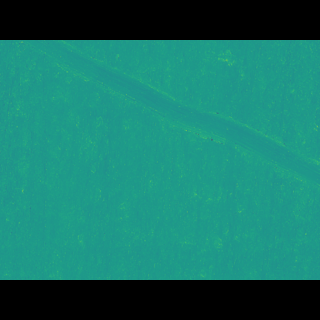Loch: (16, 69, 320, 183)
